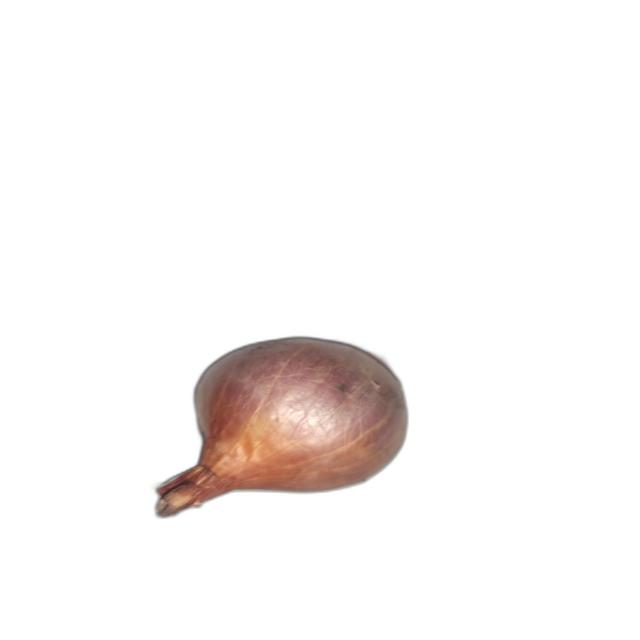onion: (152, 335, 410, 517)
